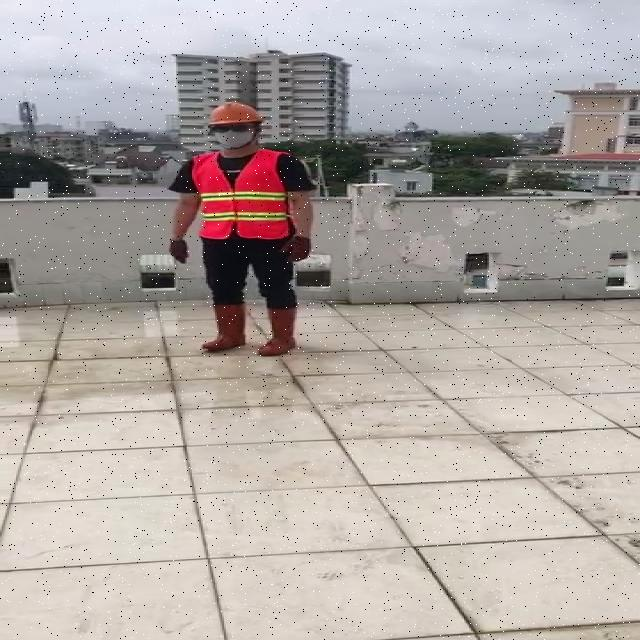Hard_hat: (205, 99, 268, 135)
Person: (150, 95, 316, 382)
Vest: (191, 150, 290, 241)
